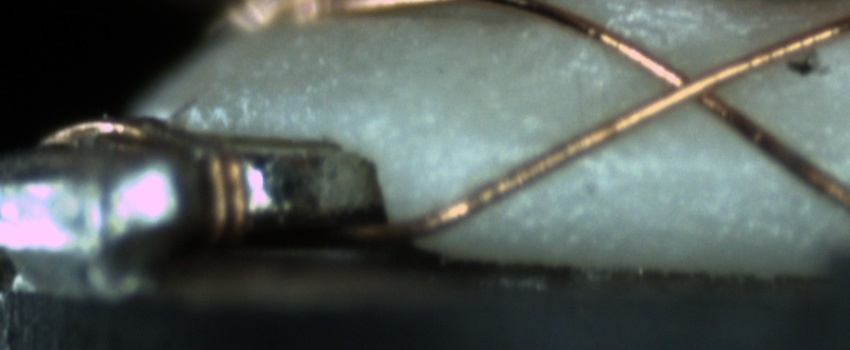CL: (641, 48, 745, 121)
DL: (418, 122, 797, 200)
TE: (38, 107, 252, 247)
